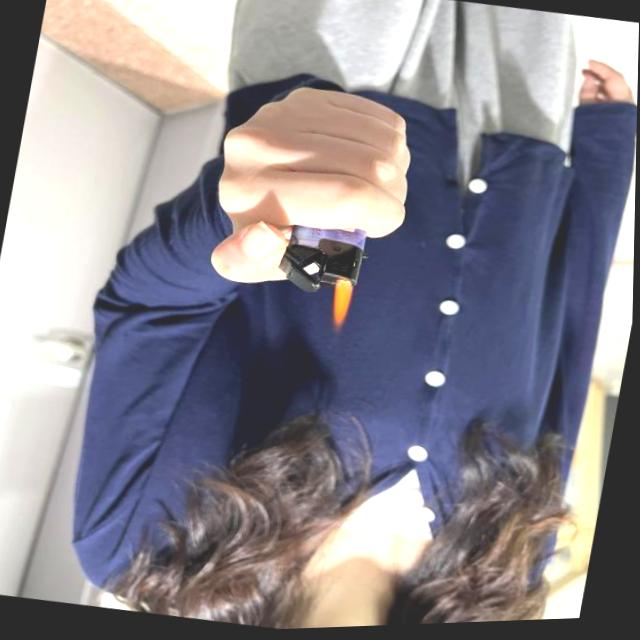Fire: (328, 280, 359, 338)
